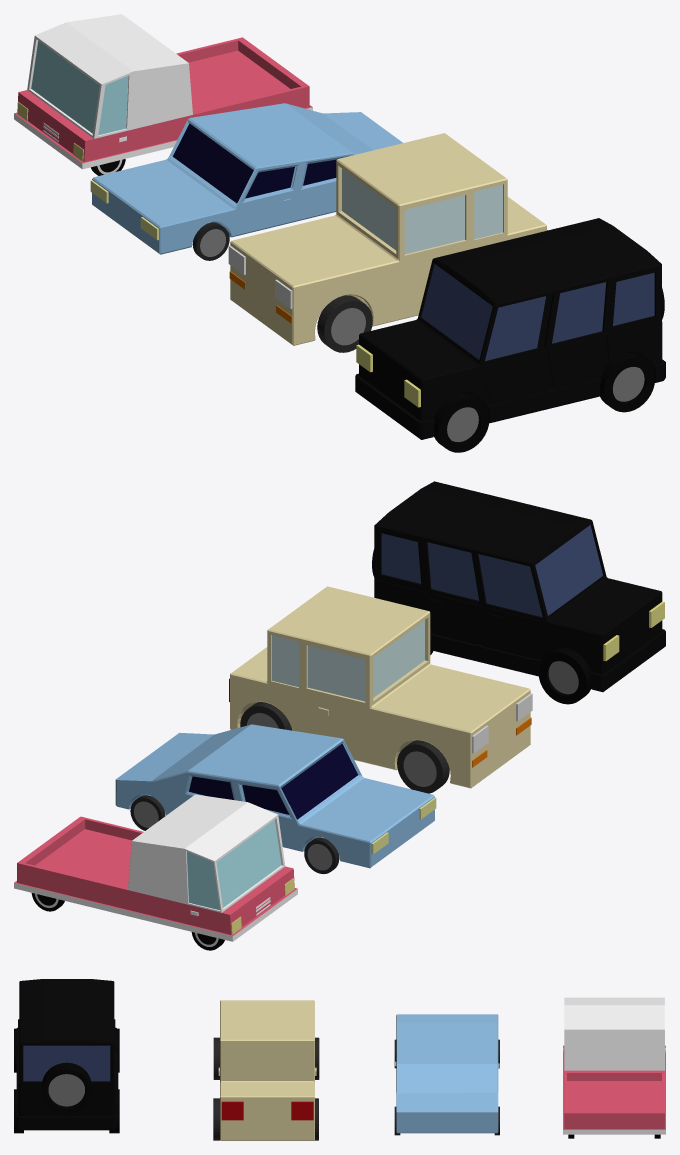
File: uploads_files_5308357_all+cars.fbx
The picture shows the model from 3 angles, top to bottom: view 1: azimuth 30°, elevation 25°; view 2: azimuth 150°, elevation 25°; view 3: azimuth 270°, elevation 25°; orthographic projection. The views are drawn at different scales.
Visible parts, largest first — view 1: Cube.002, Cube, Cube.001, Plane, Cylinder.010, Cylinder.012, Cylinder.001, Cylinder.004; view 2: Cube.002, Cube, Cube.001, Plane, Cylinder.010, Cylinder.001, Cylinder.004, Cylinder.003, Cylinder.006, Cylinder.008; view 3: Cube.001, Cube, Cube.002, Plane, Cylinder.009, Cylinder.001, Cylinder.003, Cylinder.012, Cylinder.010.
Part boxes in pixels (x1=…): Cube.002: x1=355, y1=218, x2=665, y2=439; Cube: x1=228, y1=133, x2=547, y2=345; Cube.001: x1=14, y1=14, x2=312, y2=169; Plane: x1=90, y1=103, x2=402, y2=254; Cylinder.010: x1=433, y1=393, x2=489, y2=452; Cylinder.012: x1=599, y1=353, x2=655, y2=412; Cylinder.001: x1=317, y1=295, x2=372, y2=352; Cylinder.004: x1=192, y1=222, x2=229, y2=260; Cube.002: x1=374, y1=481, x2=665, y2=692; Cube: x1=229, y1=586, x2=532, y2=788; Cube.001: x1=14, y1=794, x2=297, y2=941; Plane: x1=115, y1=724, x2=436, y2=868; Cylinder.010: x1=538, y1=648, x2=591, y2=704; Cylinder.001: x1=397, y1=740, x2=449, y2=793; Cylinder.004: x1=304, y1=837, x2=339, y2=874; Cylinder.003: x1=240, y1=702, x2=292, y2=730; Cylinder.006: x1=130, y1=795, x2=165, y2=830; Cylinder.008: x1=31, y1=893, x2=224, y2=950; Cube.001: x1=563, y1=997, x2=665, y2=1134; Cube: x1=218, y1=1000, x2=316, y2=1140; Cube.002: x1=16, y1=979, x2=118, y2=1130; Plane: x1=395, y1=1014, x2=499, y2=1133; Cylinder.009: x1=42, y1=1062, x2=91, y2=1113; Cylinder.001: x1=213, y1=1037, x2=319, y2=1079; Cylinder.003: x1=213, y1=1098, x2=318, y2=1140; Cylinder.012: x1=14, y1=1089, x2=119, y2=1133; Cylinder.010: x1=14, y1=1028, x2=119, y2=1072.
Size of what is drawn, in the model's own units: 501 by 246 by 1372.
